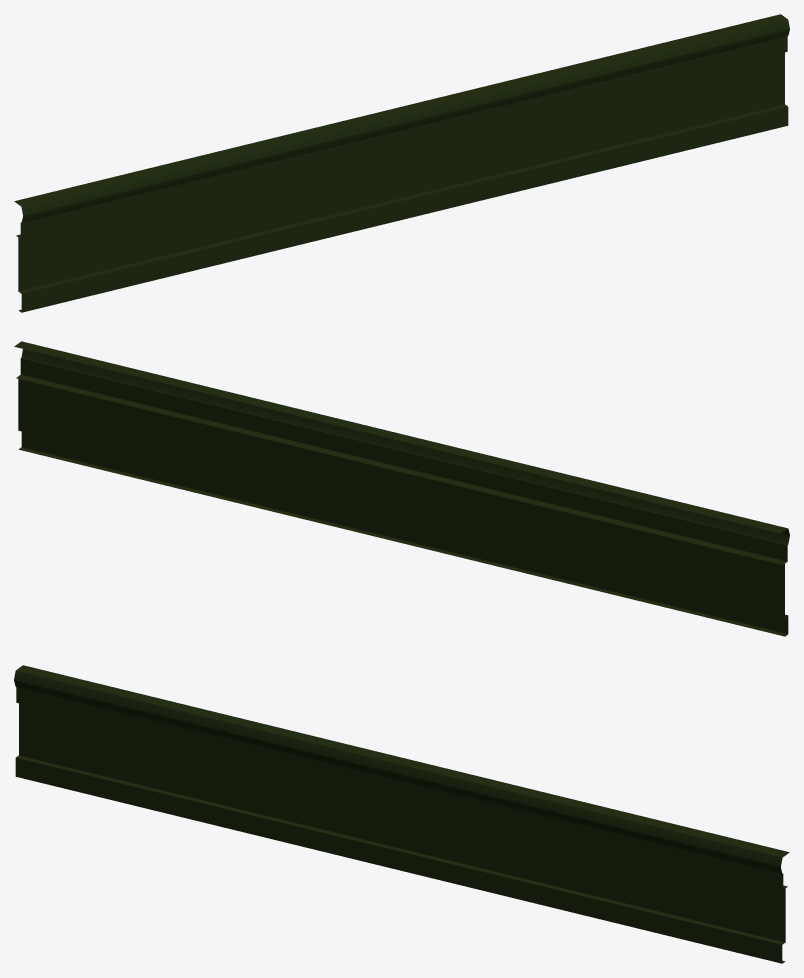
File: MSG_Lr_floorMold.FBX
3 views of the same model, one above another, from view 1: azimuth 30°, elevation 25°; view 2: azimuth 150°, elevation 25°; view 3: azimuth 330°, elevation 25° (orthographic).
Visible parts, largest first — view 1: Object071; view 2: Object071; view 3: Object071.
Part boxes in pixels (x1,y1,x2,y2): Object071: [14, 14, 789, 312]; Object071: [14, 341, 789, 636]; Object071: [14, 665, 789, 963].
Bounding box in the file's own units: 550 × 72.63 × 11.32.
